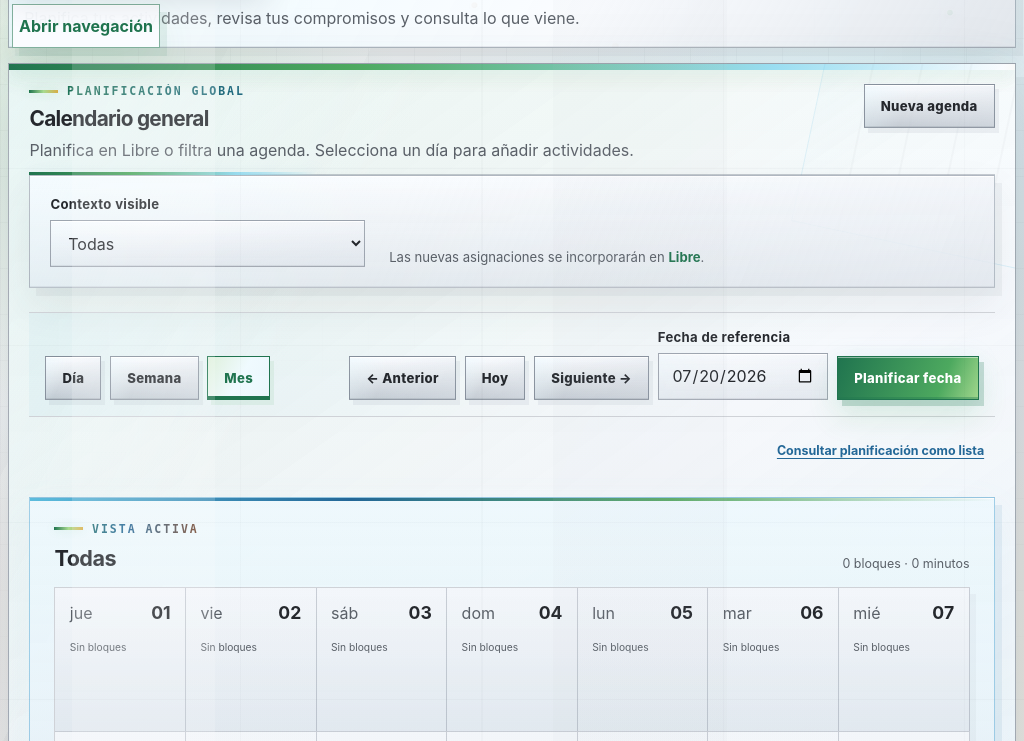
Test case: interfaz de contextos del calendario › permite planificar la fecha de referencia sin depender de la cuadrícula
(page scrolled)
Expected: the heading "Calendario general" is shown, [30, 106, 209, 131]
Type "2026-07-24" into the date field labelled "Fecha de referencia" at (743, 376), box [658, 353, 828, 400]
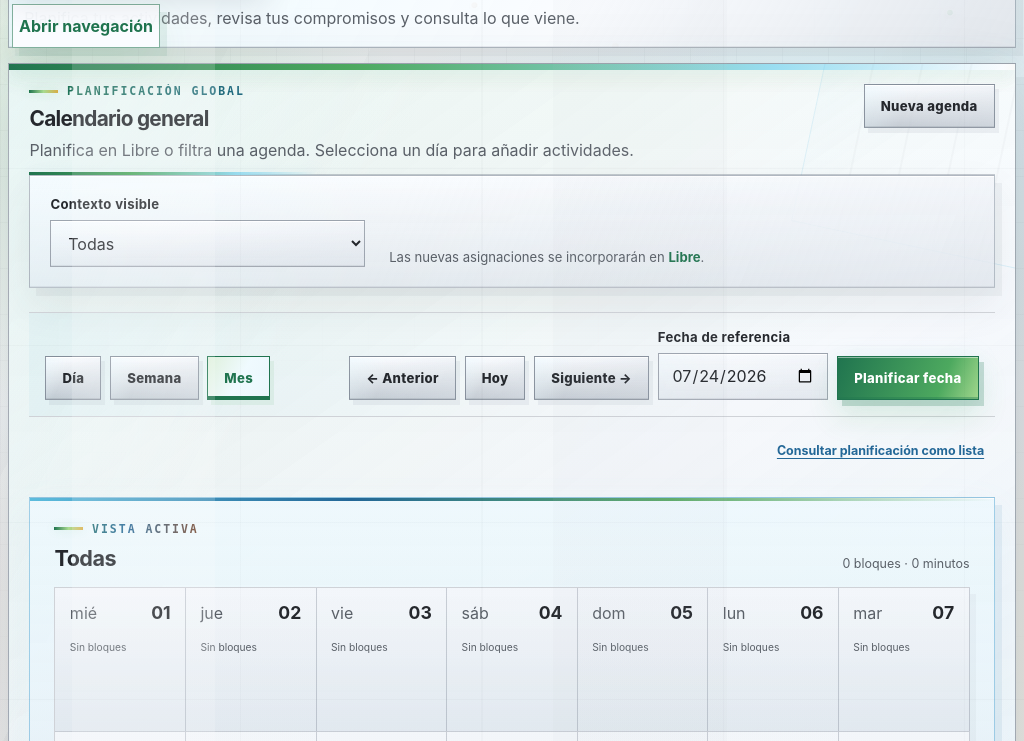
Click the button with aria-label "Planificar fecha 2026-07-24" at (908, 378), box [837, 356, 979, 400]
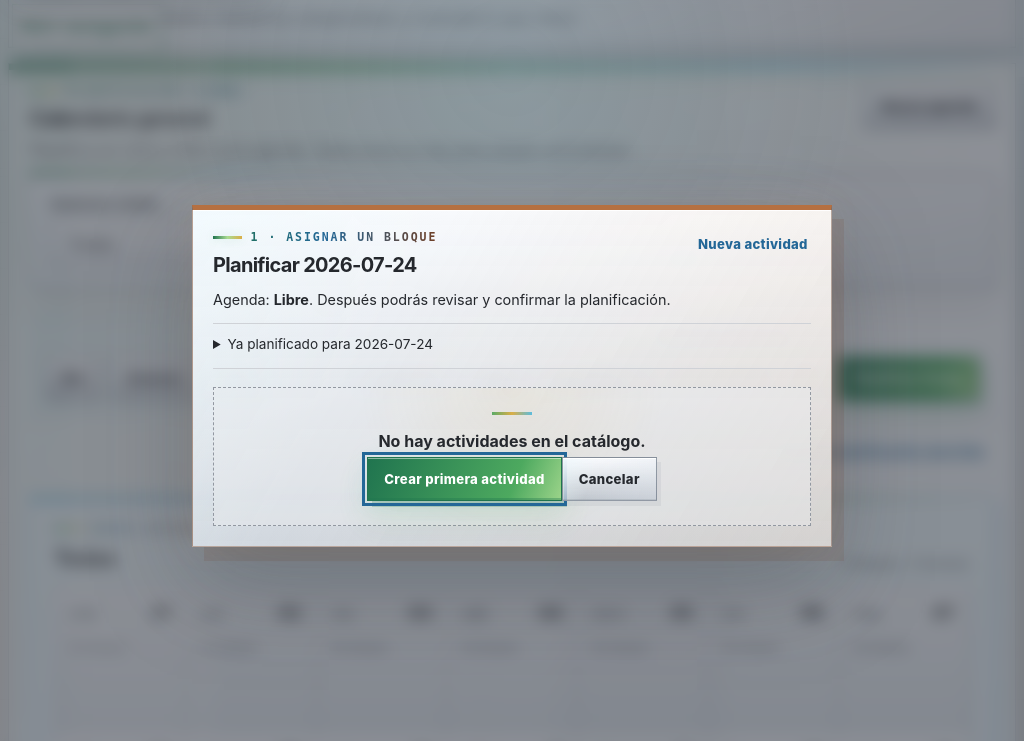
Now the heading "Planificar 2026-07-24" is shown, box [213, 253, 437, 277]
